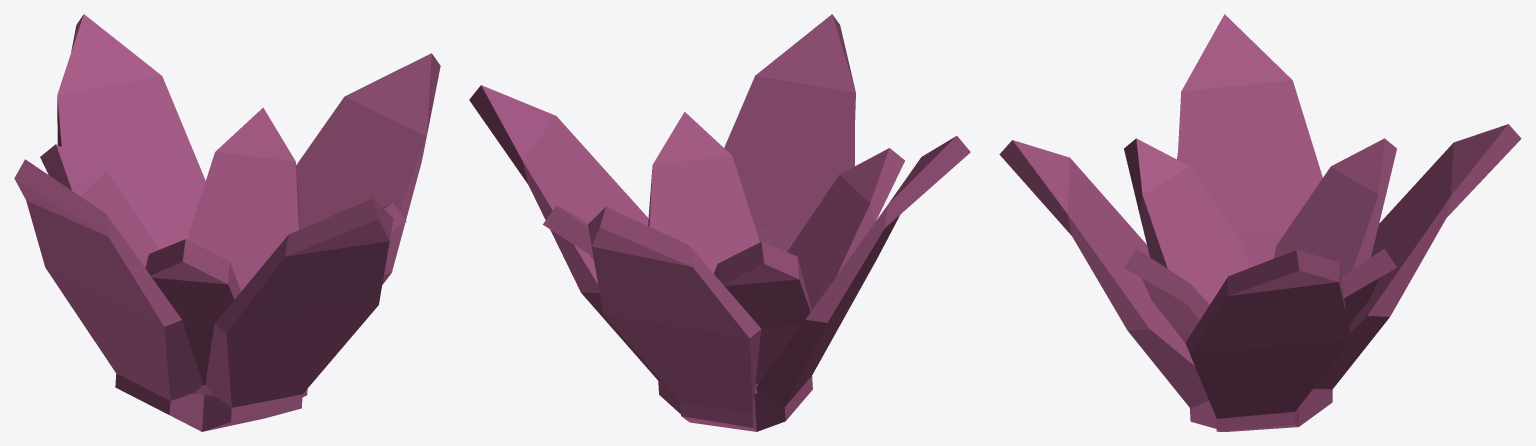
Rendered from cactus_crop.gltf.
3 views of the same model, side by side, from view 1: azimuth 30°, elevation 25°; view 2: azimuth 150°, elevation 25°; view 3: azimuth 270°, elevation 25° (orthographic). The views are drawn at different scales.
Visible parts, largest first — view 1: cactus_crop; view 2: cactus_crop; view 3: cactus_crop.
Boxes of the visible parts, bbox=[...] form: cactus_crop: bbox=[14, 14, 440, 431]; cactus_crop: bbox=[469, 14, 970, 431]; cactus_crop: bbox=[999, 14, 1521, 431].
Bounding box in the file's own units: 0.3619 × 0.2362 × 0.366.
Materials: 1 (1 with a texture image).
